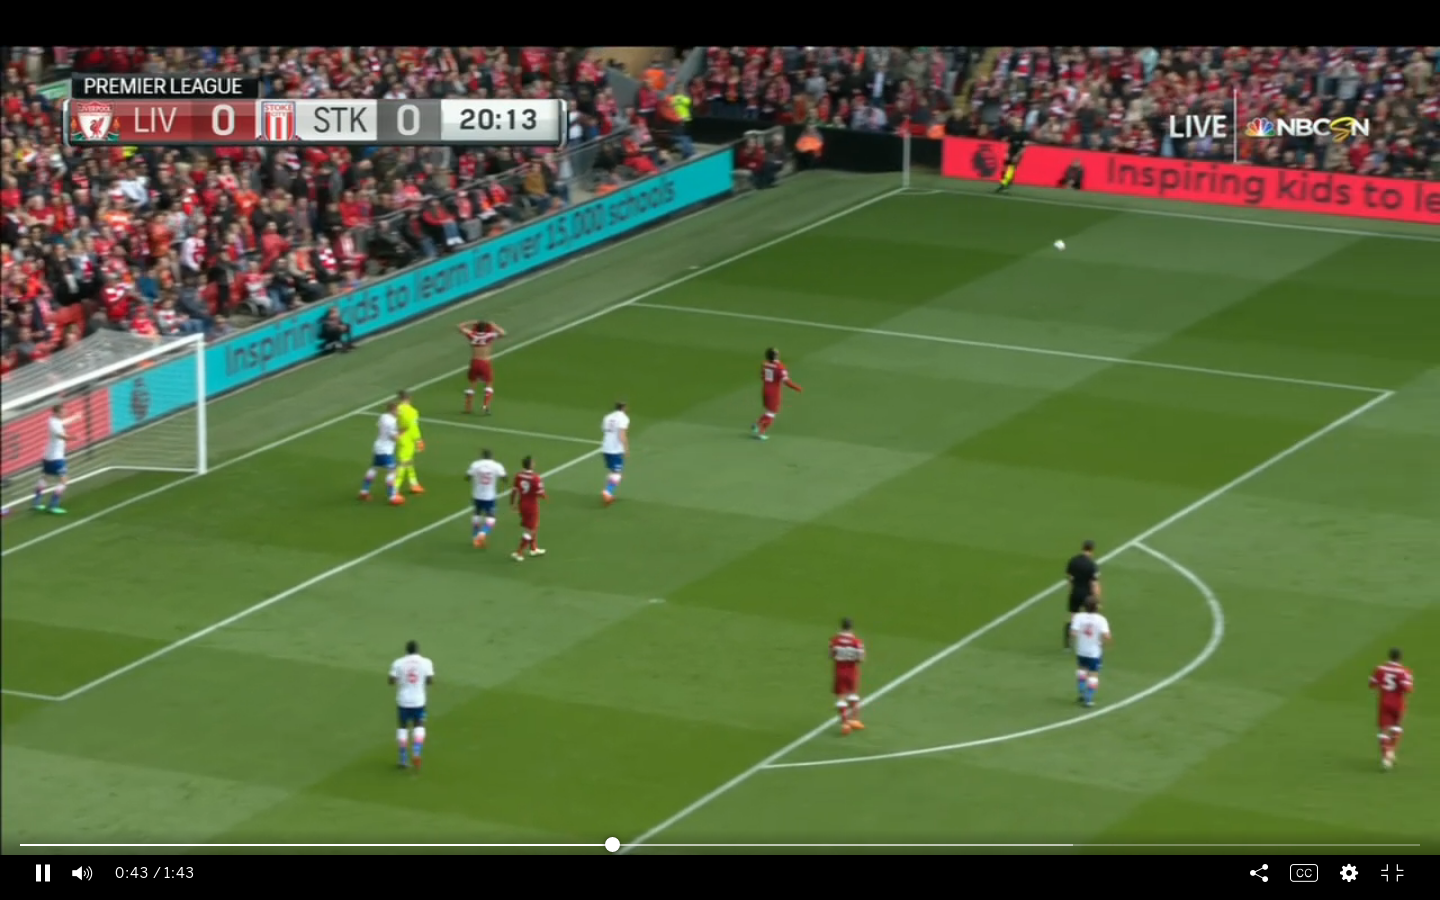referee: (1059, 532, 1101, 659)
soccer player: (385, 642, 441, 776), (32, 397, 87, 520), (1364, 648, 1412, 780), (748, 336, 802, 451), (590, 394, 639, 506), (458, 442, 507, 549), (828, 614, 868, 737), (456, 319, 505, 417), (388, 392, 432, 497), (1072, 594, 1110, 714), (508, 449, 544, 565), (364, 406, 398, 505)
soccerball: (1048, 232, 1073, 256)
